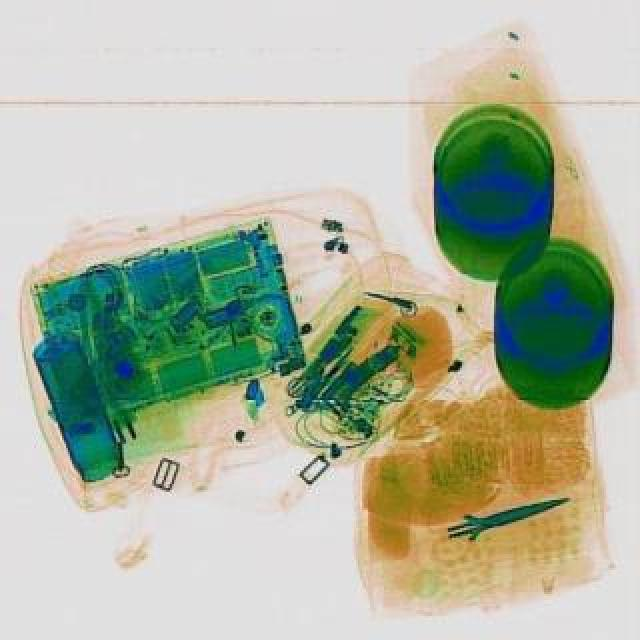knife: (442, 482, 572, 542)
